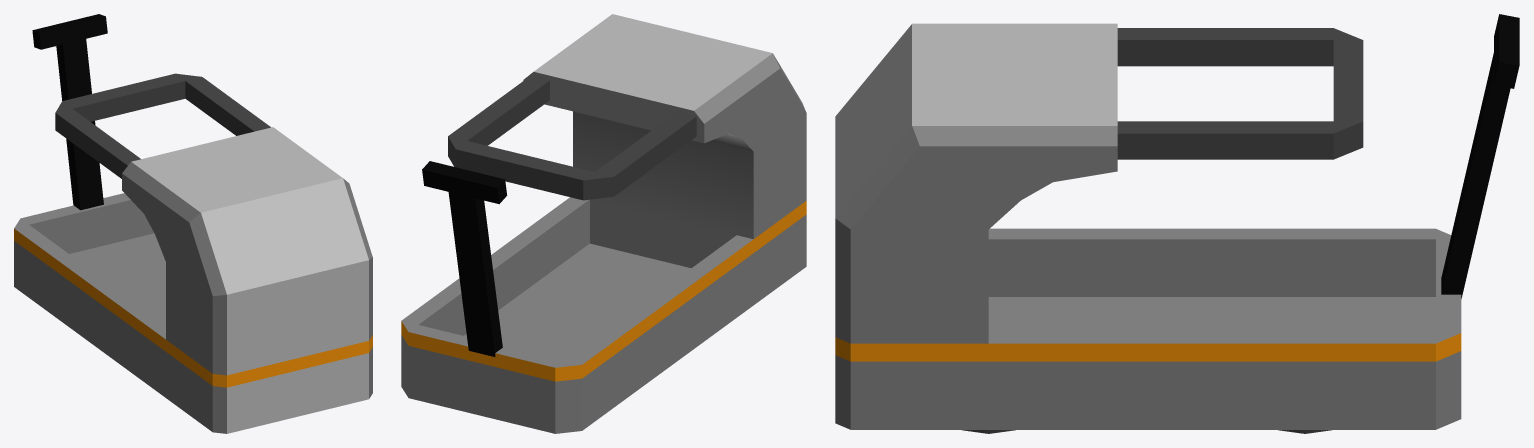
Rendered from SM_Cart_01.fbx.
3 renders of one model, left to right at view 1: azimuth 30°, elevation 25°; view 2: azimuth 150°, elevation 25°; view 3: azimuth 270°, elevation 25°, orthographic. The views are drawn at different scales.
Parts seen in each view (by area): view 1: SM_Cart_01; view 2: SM_Cart_01; view 3: SM_Cart_01.
Boxes of the visible parts, bbox=[...] form: SM_Cart_01: bbox=[14, 14, 372, 433]; SM_Cart_01: bbox=[401, 14, 806, 433]; SM_Cart_01: bbox=[835, 14, 1519, 433].
Size of the model in its own units: 53.28 by 81.34 by 134.
1 material, 1 textured.
